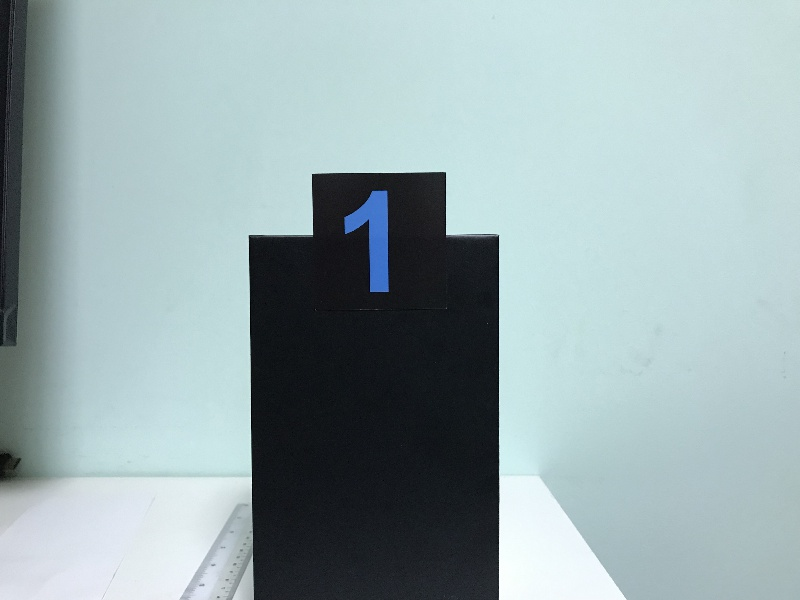One-6: (316, 176, 445, 308)
